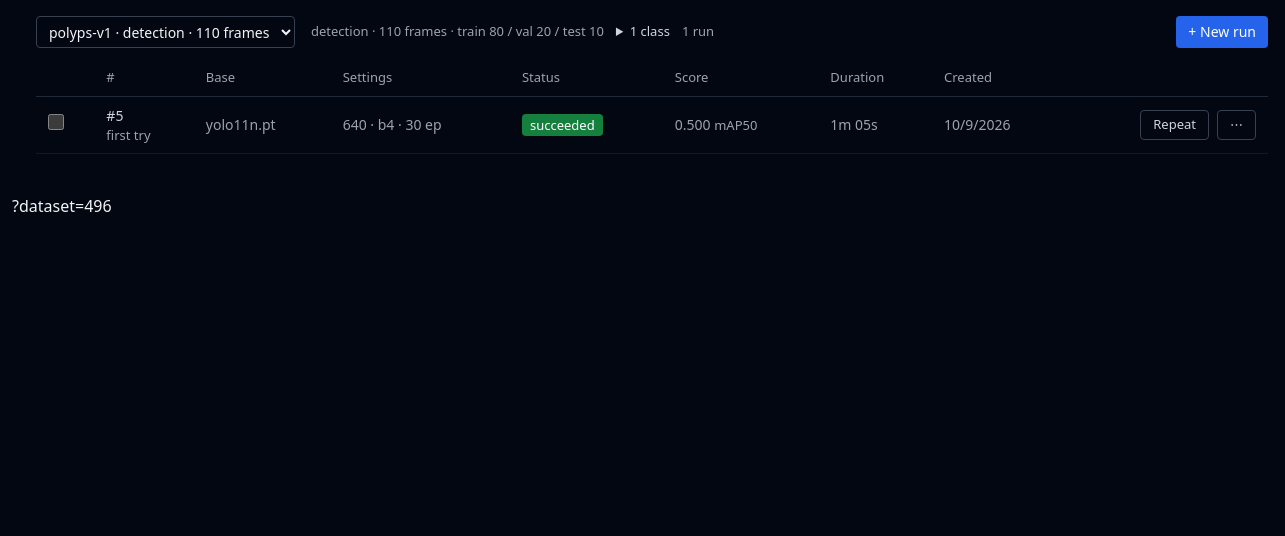
it: TrainPage › opens a run's details when its row is opened and puts it in the URL; Back returns to the table
Expected: the table is shown, [36,60,1268,154]
Click the text "#5".
click(115, 115)  # box [106,106,124,124]
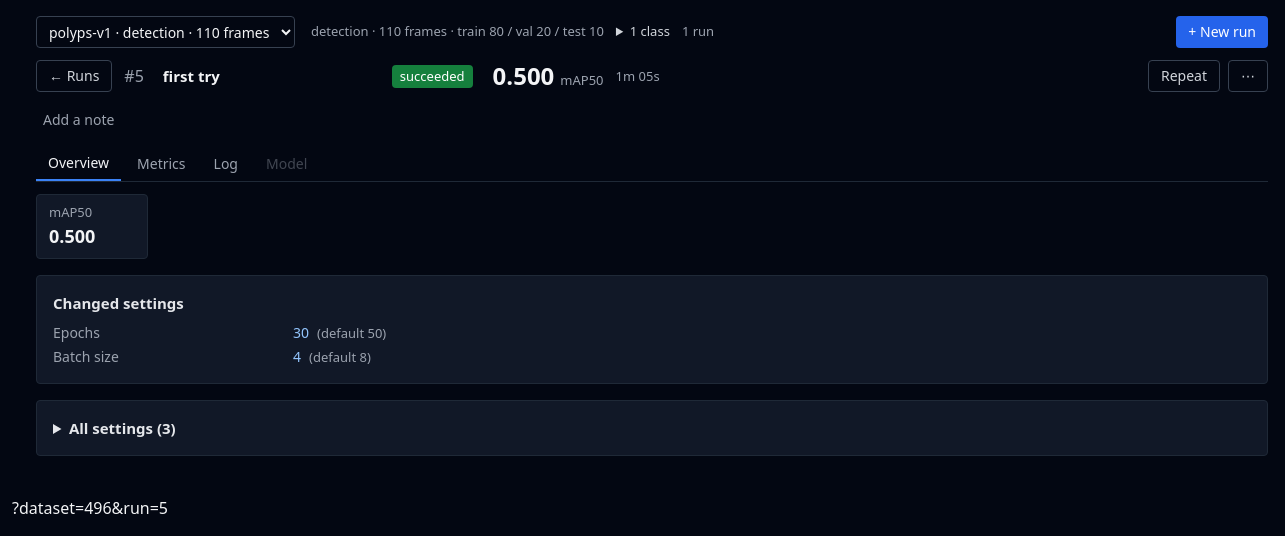
Result: the button "← Runs" is shown
Result: the text with test id "where" reads "?dataset=496&run=5" at [12,497,168,519]
Click the button "← Runs".
click(74, 76)  # box [36,60,112,92]
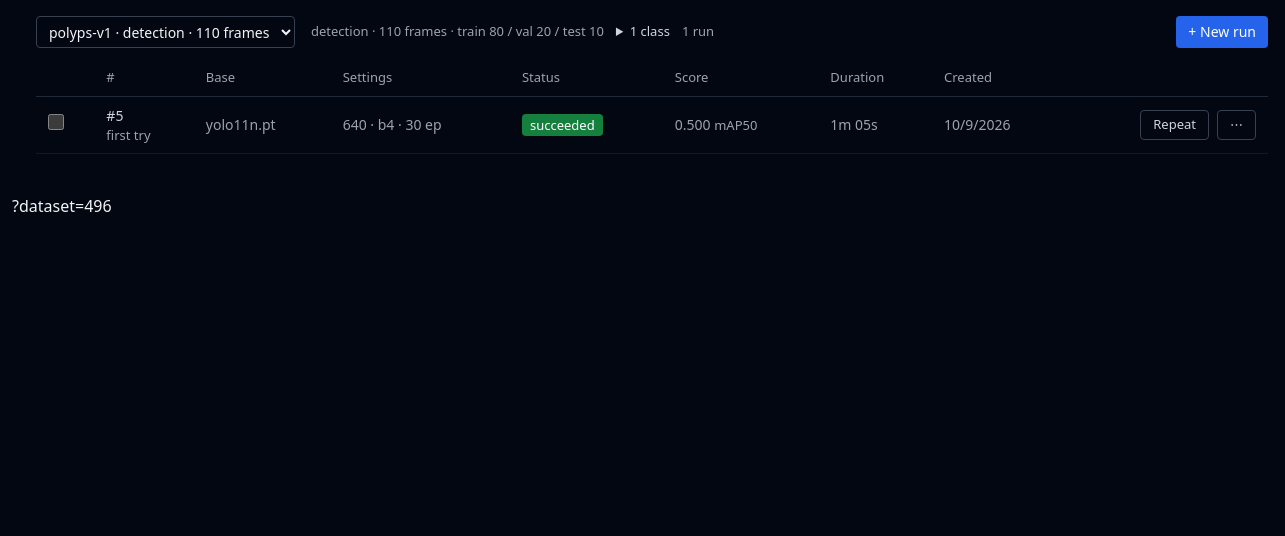
Result: the table is shown at [36,60,1268,154]
Result: the text with test id "where" reads "?dataset=496" at [12,195,112,217]
